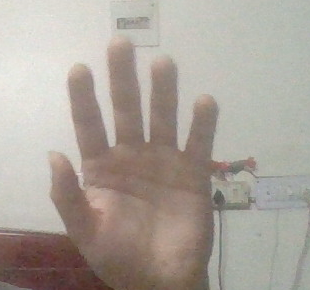move: (44, 31, 226, 278)
